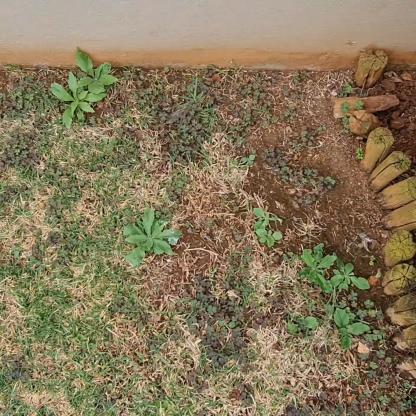Weeds: (121, 205, 185, 269), (49, 71, 107, 128), (73, 45, 119, 96), (298, 244, 333, 295), (332, 306, 370, 349), (330, 255, 370, 295), (286, 313, 320, 336), (251, 205, 278, 230), (256, 227, 283, 247), (240, 154, 256, 168)
